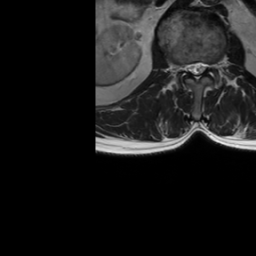CCS_normal: (194, 56, 200, 85)
LFS_stenosis: (207, 57, 214, 75)
LLS_stenosis: (200, 57, 207, 76)
RFS_stenosis: (179, 58, 187, 76)
RLS_normal: (187, 57, 194, 77)
